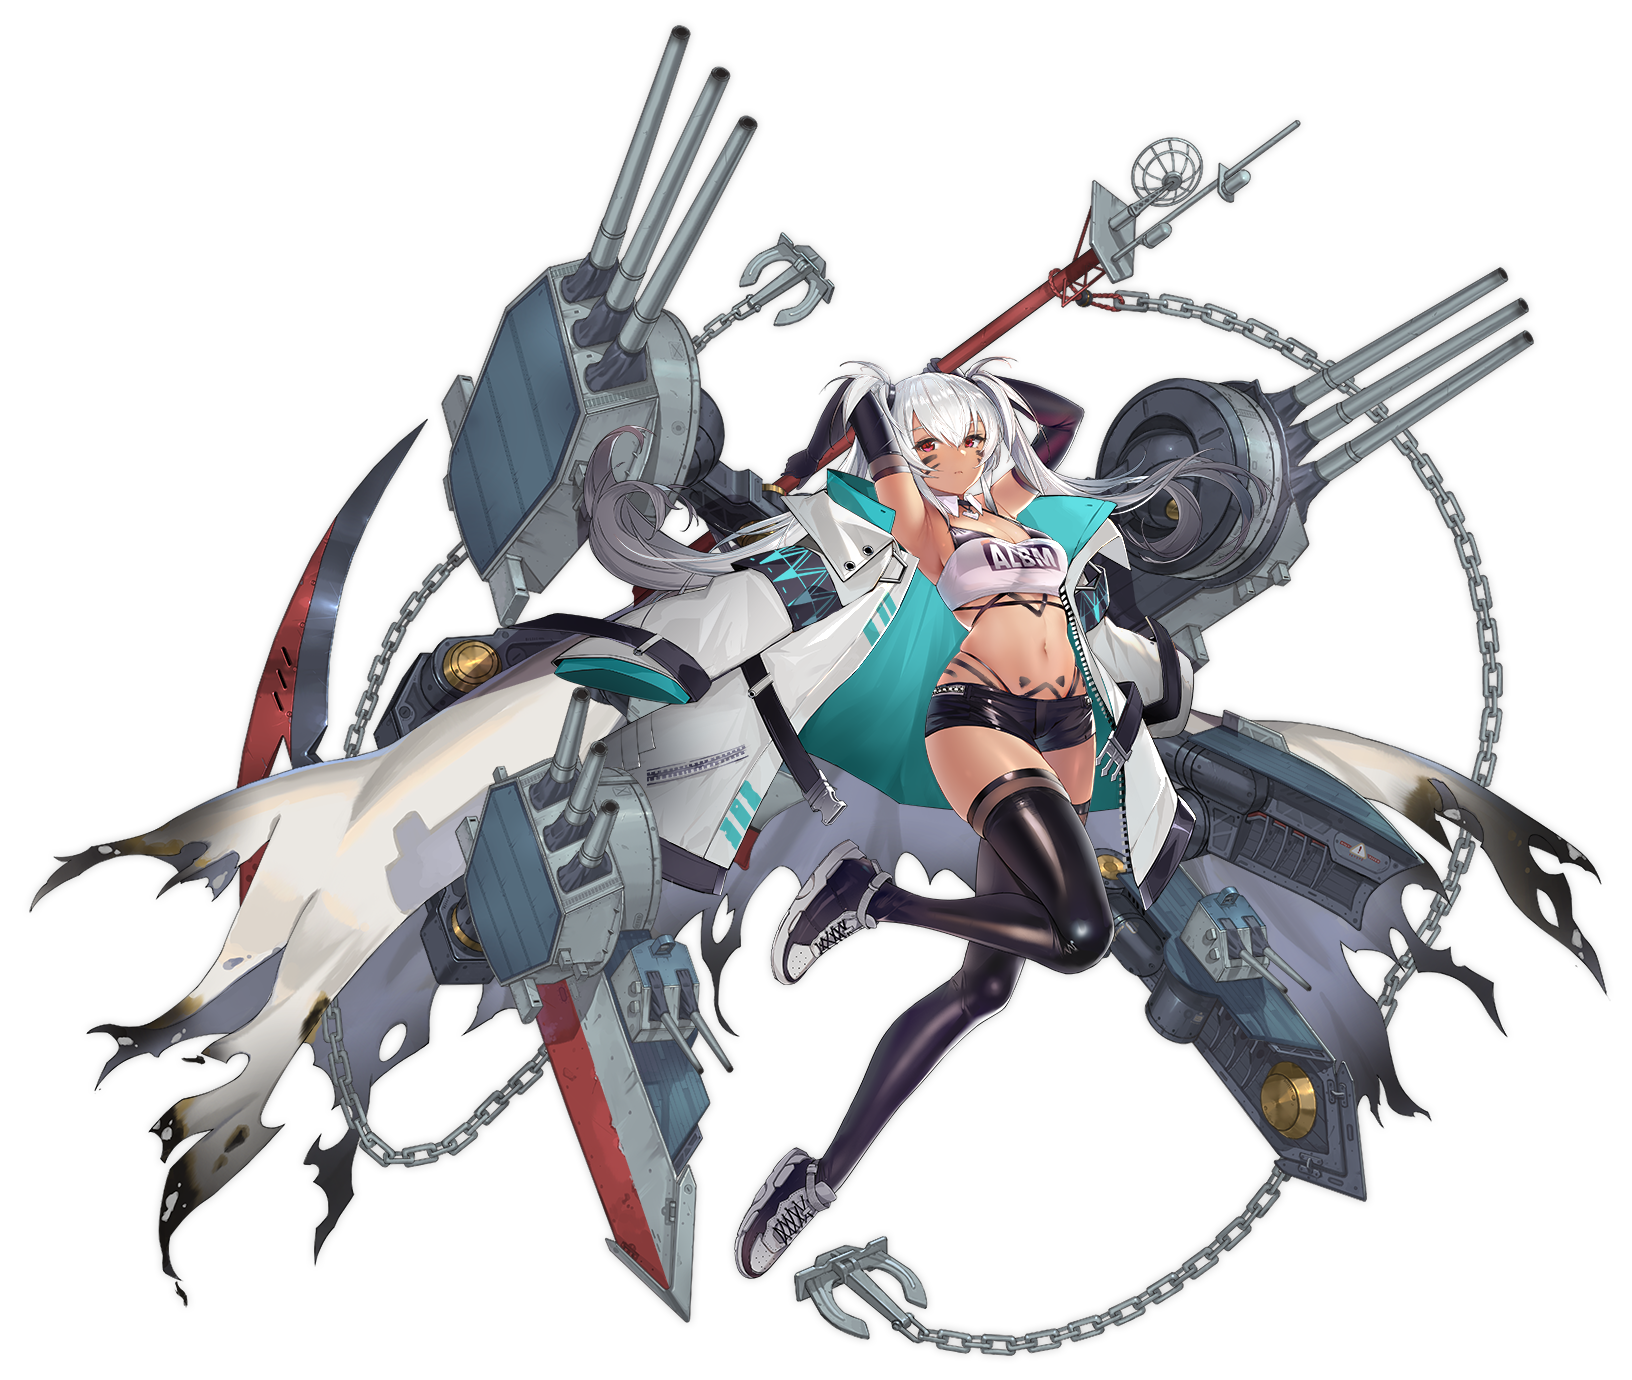person: (680, 353, 1159, 1088)
